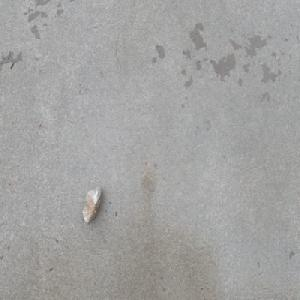Rock: (81, 180, 102, 224)
